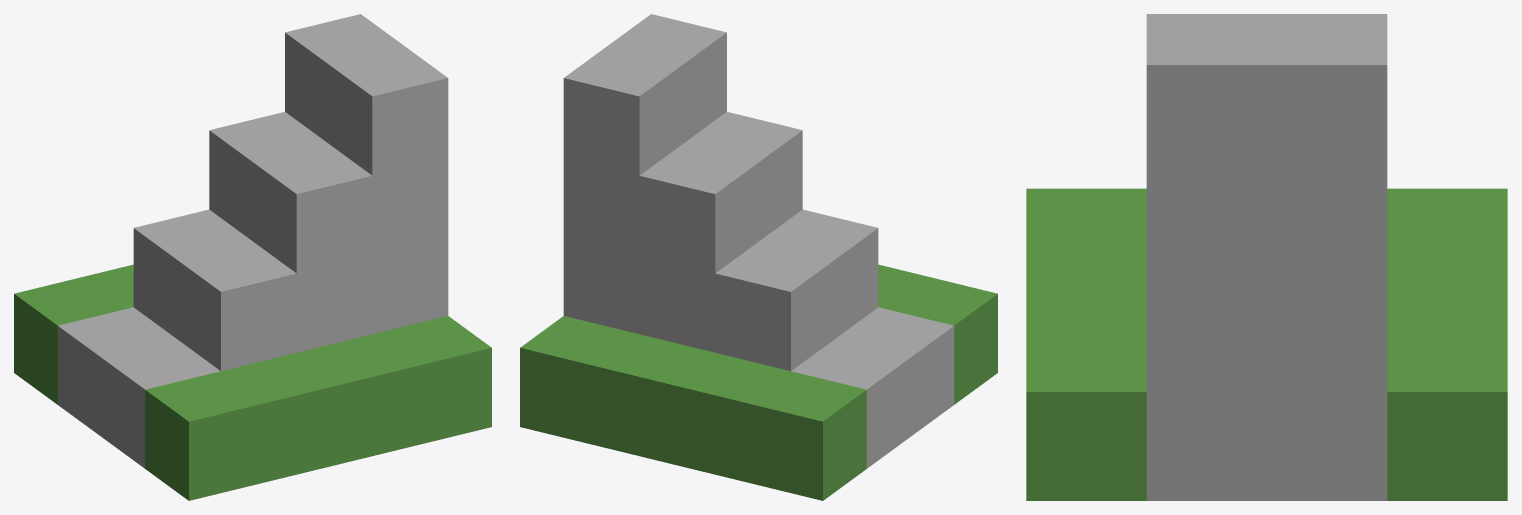
File: stair.glb
3 renders of one model, left to right at view 1: azimuth 30°, elevation 25°; view 2: azimuth 150°, elevation 25°; view 3: azimuth 270°, elevation 25°, orthographic. The views are drawn at different scales.
Parts seen in each view (by area): view 1: stair; view 2: stair; view 3: stair.
Part boxes in pixels (box(x1,y1,x2,y2)): stair: box(14, 14, 491, 500); stair: box(520, 14, 997, 500); stair: box(1026, 14, 1507, 500).
Bounding box in the file's own units: 1 × 1 × 1.
Materials: 1 (1 with a texture image).
